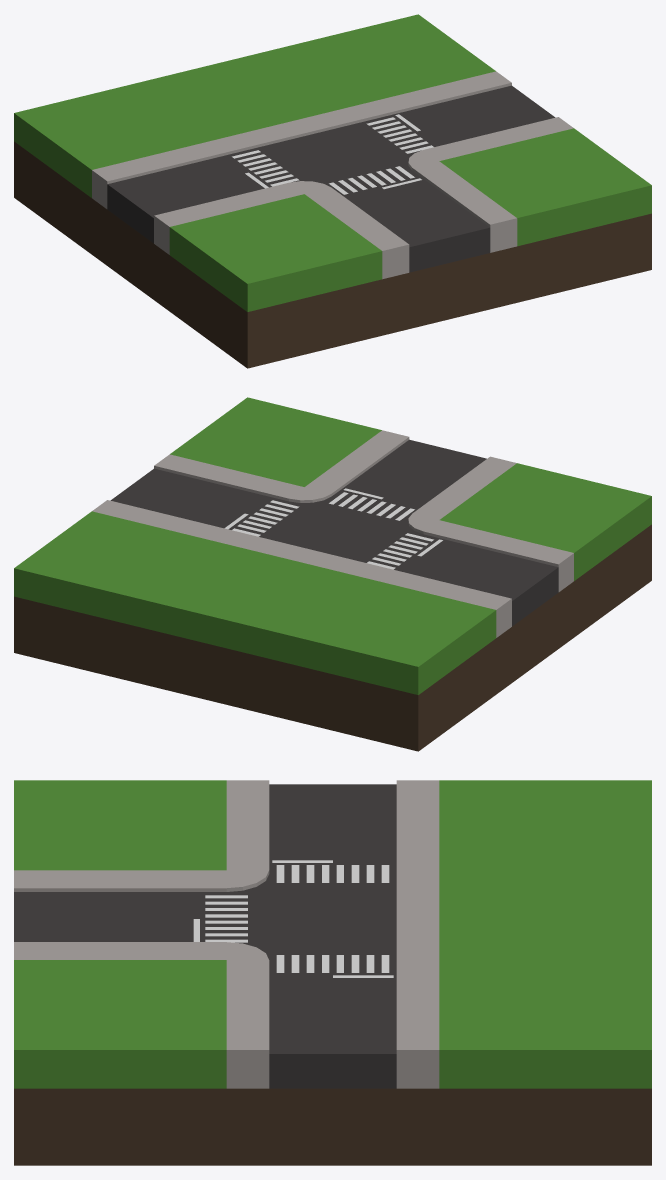
The model's file is tile-road-intersection-t.glb.
The picture shows the model from 3 angles, top to bottom: view 1: azimuth 30°, elevation 25°; view 2: azimuth 150°, elevation 25°; view 3: azimuth 270°, elevation 25°; orthographic projection. The views are drawn at different scales.
Parts seen in each view (by area): view 1: tile-road-intersection-t; view 2: tile-road-intersection-t; view 3: tile-road-intersection-t.
Boxes of the visible parts, bbox=[...] form: tile-road-intersection-t: bbox=[14, 14, 651, 368]; tile-road-intersection-t: bbox=[14, 397, 651, 751]; tile-road-intersection-t: bbox=[14, 780, 651, 1165].
Bounding box in the file's own units: 30 × 6 × 30.
1 material, 1 textured.
